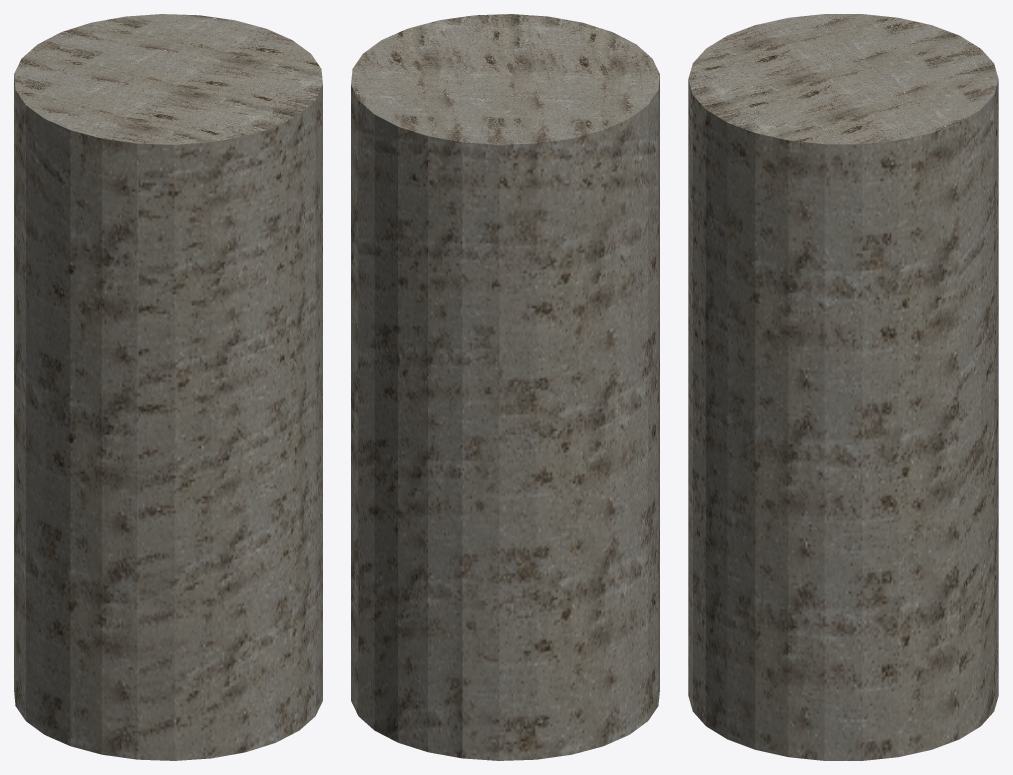
Rendered from basicwall__corner_col.fbx.
The picture shows the model from 3 angles, left to right: view 1: azimuth 30°, elevation 25°; view 2: azimuth 150°, elevation 25°; view 3: azimuth 270°, elevation 25°; orthographic projection.
Parts seen in each view (by area): view 1: Cylinder.002; view 2: Cylinder.002; view 3: Cylinder.002.
Part boxes in pixels (x1,y1,x2,y2): Cylinder.002: (14, 14, 322, 760); Cylinder.002: (351, 14, 659, 760); Cylinder.002: (688, 14, 998, 760).
Bounding box in the file's own units: 181 × 400 × 182.
1 material, 1 textured.
